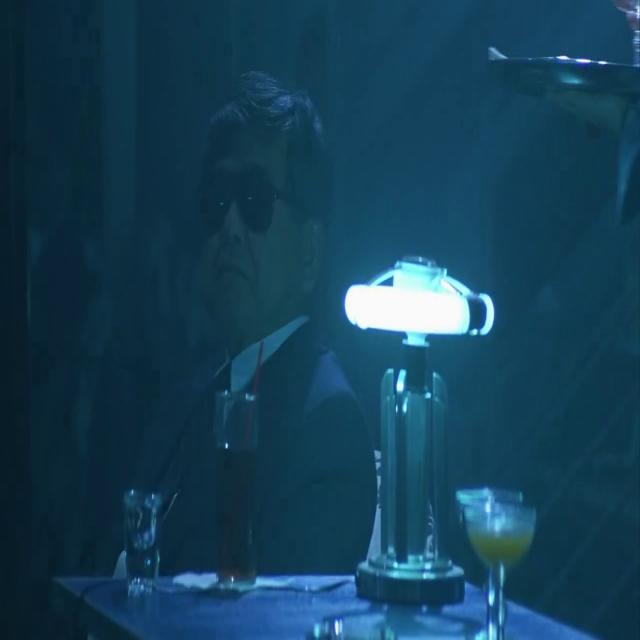Cup: (210, 374, 274, 598), (470, 488, 550, 631), (116, 479, 165, 603)
People: (174, 27, 339, 576)
Table: (50, 504, 619, 640)
